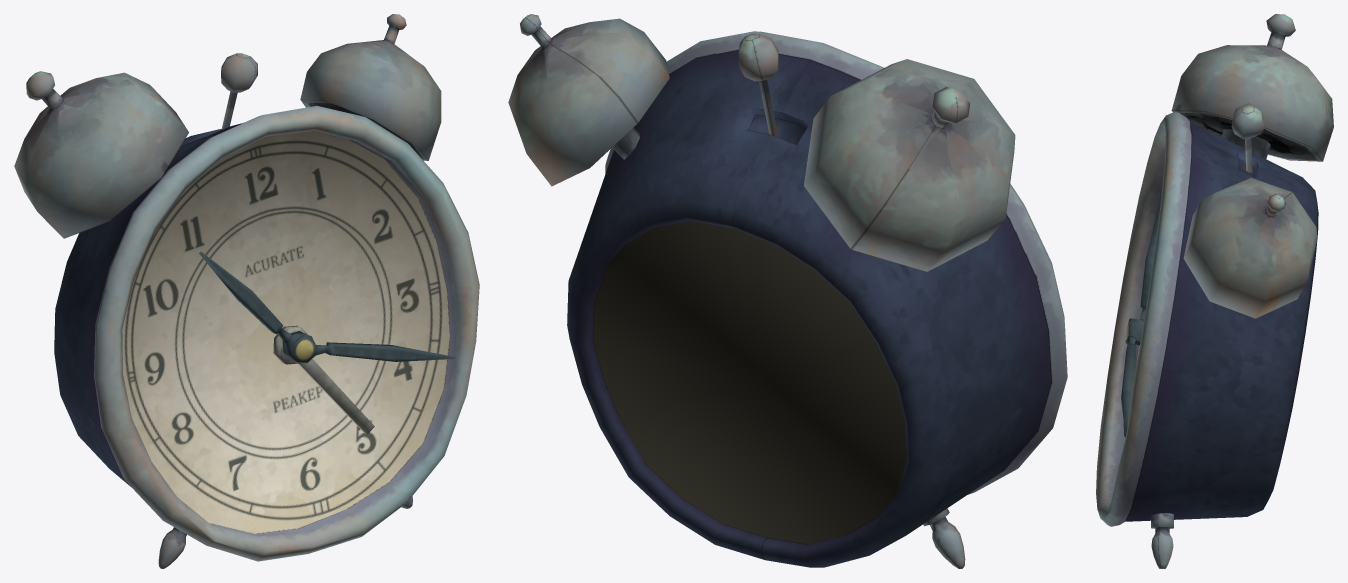
Rendered from f_AlarmClock.fbx.
The picture shows the model from 3 angles, left to right: view 1: azimuth 30°, elevation 25°; view 2: azimuth 150°, elevation 25°; view 3: azimuth 270°, elevation 25°; orthographic projection. The views are drawn at different scales.
Parts seen in each view (by area): view 1: LD_AlarmClock; view 2: LD_AlarmClock; view 3: LD_AlarmClock.
Part boxes in pixels (bbox=[...]): LD_AlarmClock: bbox=[14, 14, 479, 568]; LD_AlarmClock: bbox=[508, 14, 1067, 568]; LD_AlarmClock: bbox=[1096, 14, 1333, 568].
Size of the model in its own units: 27.51 by 29.99 by 15.33.
